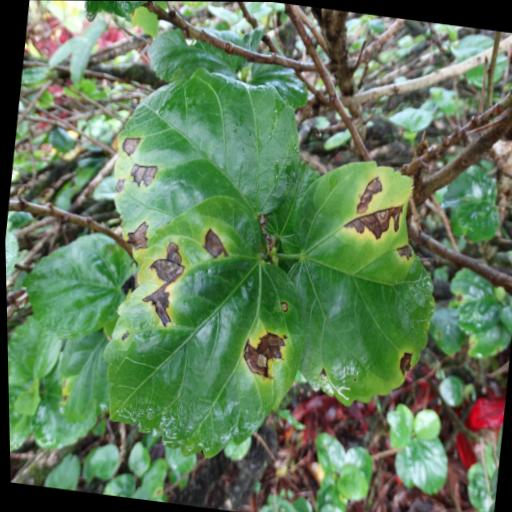Septoria: (87, 192, 319, 468), (273, 150, 458, 408)
